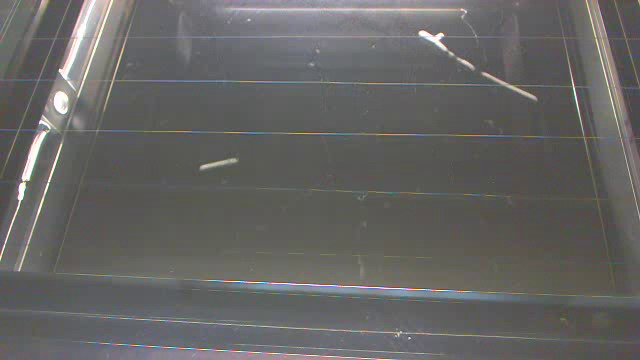alpha: (415, 26, 539, 108), (198, 155, 240, 175)
